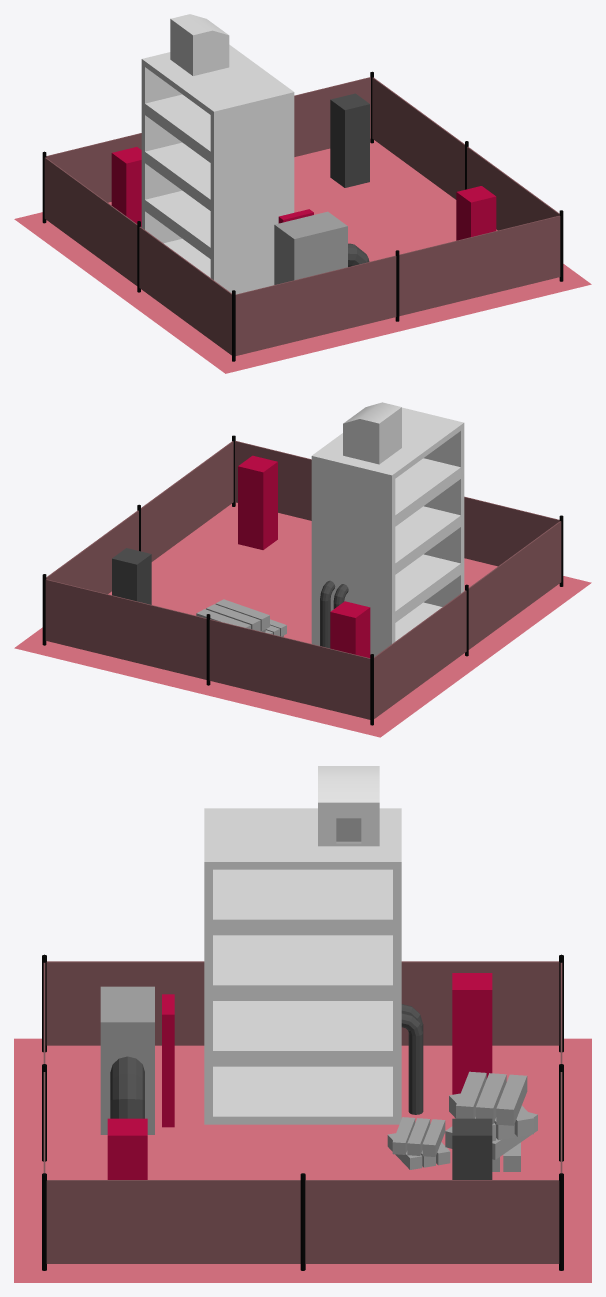
Rendered from 44_pink.fbx.
3 views of the same model, one above another, from view 1: azimuth 30°, elevation 25°; view 2: azimuth 150°, elevation 25°; view 3: azimuth 270°, elevation 25° (orthographic). The views are drawn at different scales.
Visible parts, largest first — view 1: pCube229, pPlane2, pCube227, pCube228, pCube222, pCube217, pCube225, pCube233, pCube239, pCube226, pCube241, pCube224 (+3 smaller); view 2: pCube229, pPlane2, pCube223, pCube224, pCube217, pCube222, pCube226, pCube228, pCube238, pCube225, pCube241, pCube227 (+5 smaller); view 3: pCube229, pPlane2, pCube225, pCube226, pCube222, pCube217, pCube233, pCube241, pCube240, pCube239, pCube238, pCylinder44 (+5 smaller).
Part boxes in pixels (box(x1,y1,x2,y2)): pCube229: box(141, 44, 294, 294); pPlane2: box(14, 139, 591, 373); pCube227: box(399, 215, 560, 316); pCube228: box(235, 255, 396, 355); pCube222: box(44, 157, 137, 285); pCube217: box(139, 226, 231, 355); pCube225: box(372, 77, 464, 199); pCube233: box(274, 211, 347, 284); pCube239: box(330, 93, 369, 187); pCube226: box(467, 147, 559, 230); pCube241: box(170, 14, 229, 75); pCube224: box(294, 77, 370, 156); pCube229: box(311, 407, 464, 656); pPlane2: box(14, 502, 591, 737); pCube223: box(209, 619, 370, 719); pCube224: box(45, 579, 206, 679); pCube217: box(468, 521, 561, 649); pCube222: box(374, 590, 466, 718); pCube226: box(141, 441, 233, 561); pCube228: box(464, 496, 559, 566); pCube238: box(238, 455, 277, 549); pCube225: box(46, 510, 138, 594); pCube241: box(343, 402, 401, 464); pCube227: box(235, 440, 311, 520); pCube229: box(204, 808, 401, 1124); pPlane2: box(14, 1038, 591, 1282); pCube225: box(305, 1180, 559, 1263); pCube226: box(46, 1180, 300, 1263); pCube222: box(401, 961, 559, 1045); pCube217: box(46, 961, 204, 1045); pCube233: box(100, 986, 154, 1134); pCube241: box(318, 766, 379, 846); pCube240: box(452, 973, 492, 1094); pCube239: box(452, 1118, 492, 1179); pCube238: box(107, 1118, 147, 1179); pCylinder44: box(110, 1056, 144, 1118).
Bounding box in the file's own units: 4 × 2.48 × 4.
